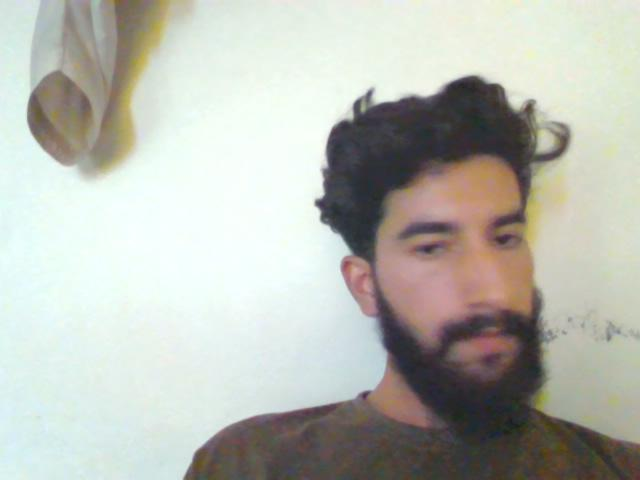hairnetless: (296, 59, 581, 244)
